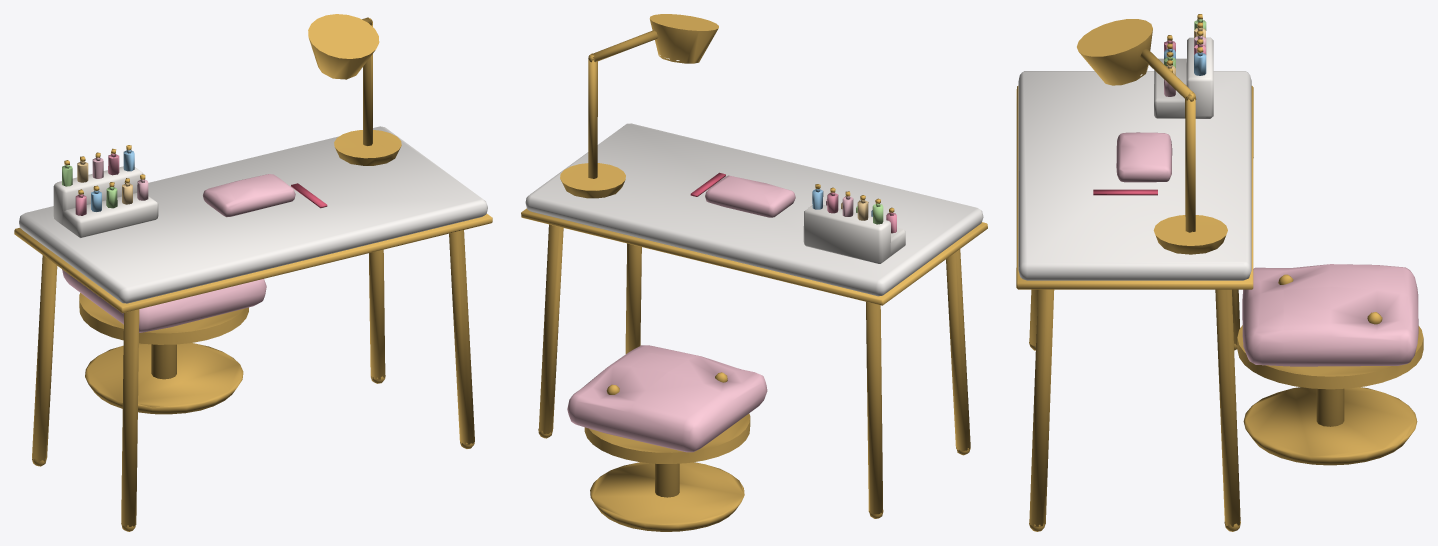
File: nail-desk-marble.glb
The picture shows the model from 3 angles, left to right: view 1: azimuth 30°, elevation 25°; view 2: azimuth 150°, elevation 25°; view 3: azimuth 270°, elevation 25°; orthographic projection. The views are drawn at different scales.
Visible parts, largest first — view 1: nail-desk-marble; view 2: nail-desk-marble; view 3: nail-desk-marble.
Part boxes in pixels (x1,y1,x2,y2): nail-desk-marble: (14, 14, 492, 531); nail-desk-marble: (521, 14, 987, 531); nail-desk-marble: (1016, 14, 1423, 531).
Bounding box in the file's own units: 1.01 × 1.08 × 0.8748.
